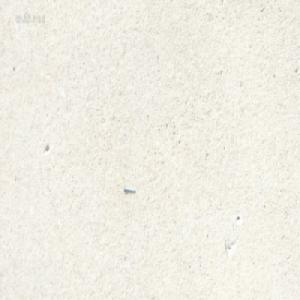Nail: (121, 184, 136, 193)
